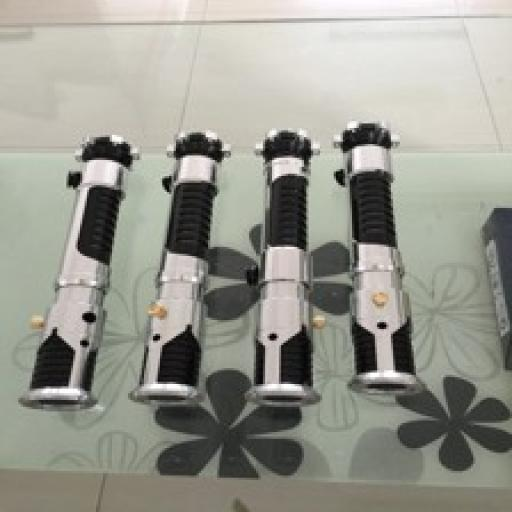lightsaber: (20, 136, 139, 408), (130, 132, 230, 407), (331, 118, 421, 396), (244, 128, 323, 408)
